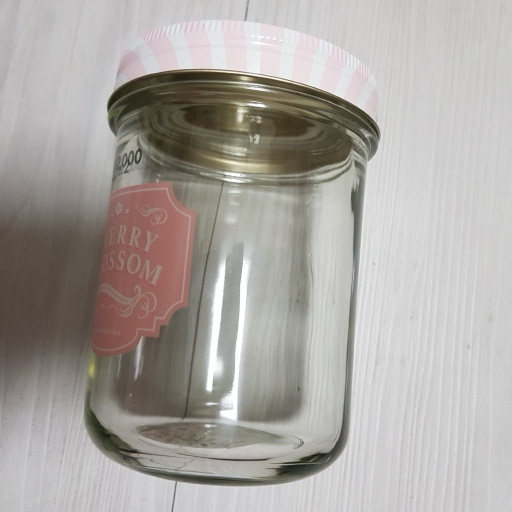Glass_5: (88, 20, 382, 488)
